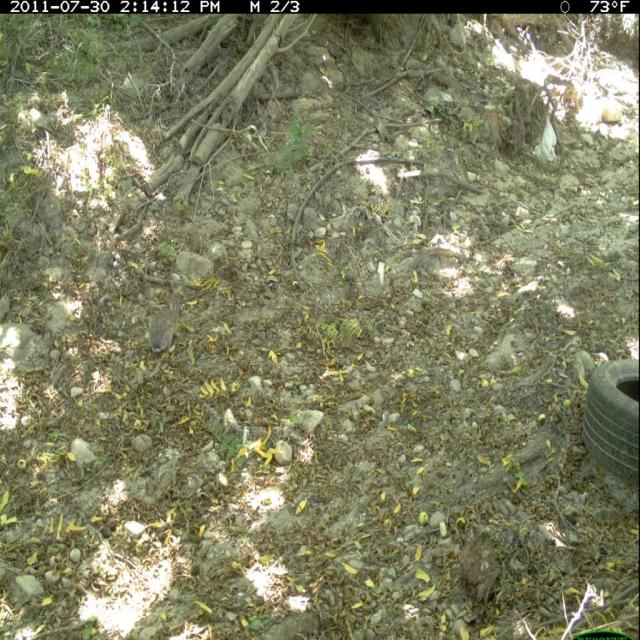rabbit: (146, 284, 190, 362)
